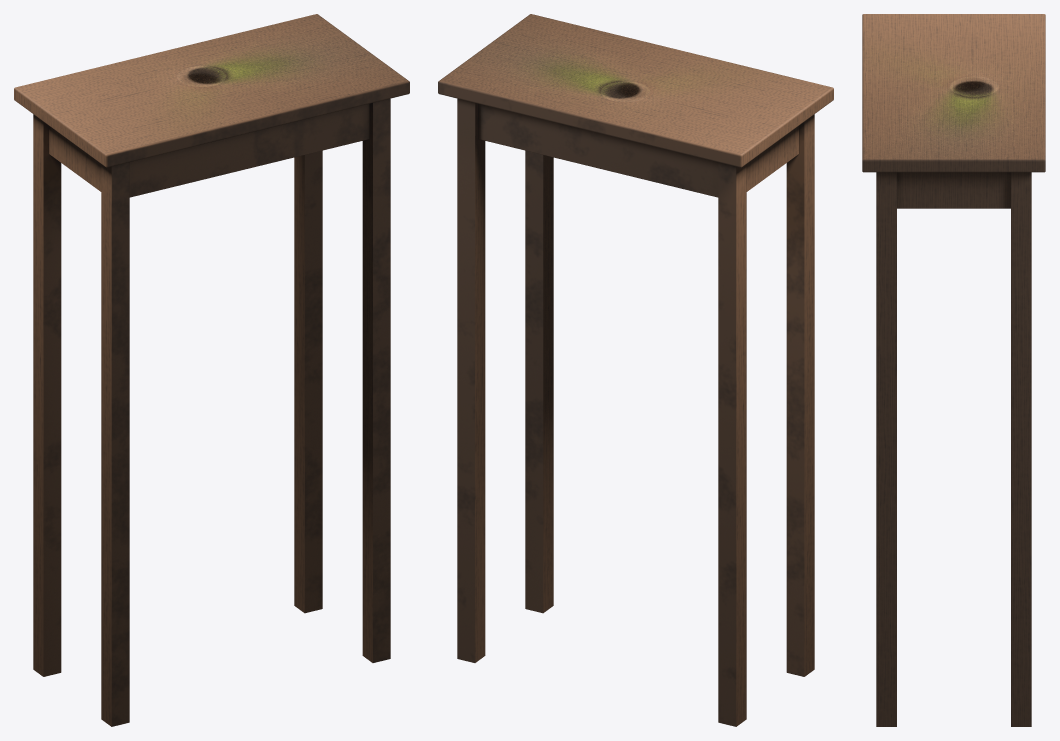
File: 402_react.glb
3 renders of one model, left to right at view 1: azimuth 30°, elevation 25°; view 2: azimuth 150°, elevation 25°; view 3: azimuth 270°, elevation 25°, orthographic.
Parts seen in each view (by area): view 1: Table; view 2: Table; view 3: Table.
Part boxes in pixels (x1=…): Table: x1=14, y1=14, x2=409, y2=726; Table: x1=438, y1=14, x2=833, y2=726; Table: x1=862, y1=14, x2=1045, y2=726.
Size of what is drawn, in the model's own units: 1.7 by 3.1 by 0.9.
Materials: 1 (1 with a texture image).
